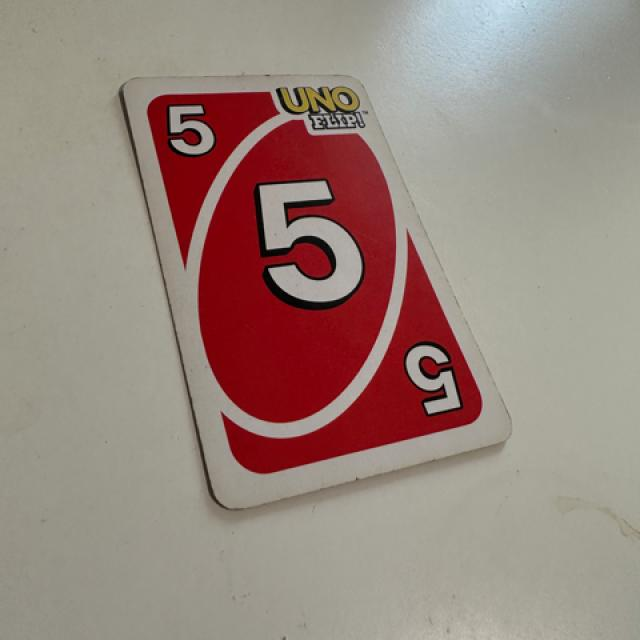lred-5: (153, 82, 244, 174)
